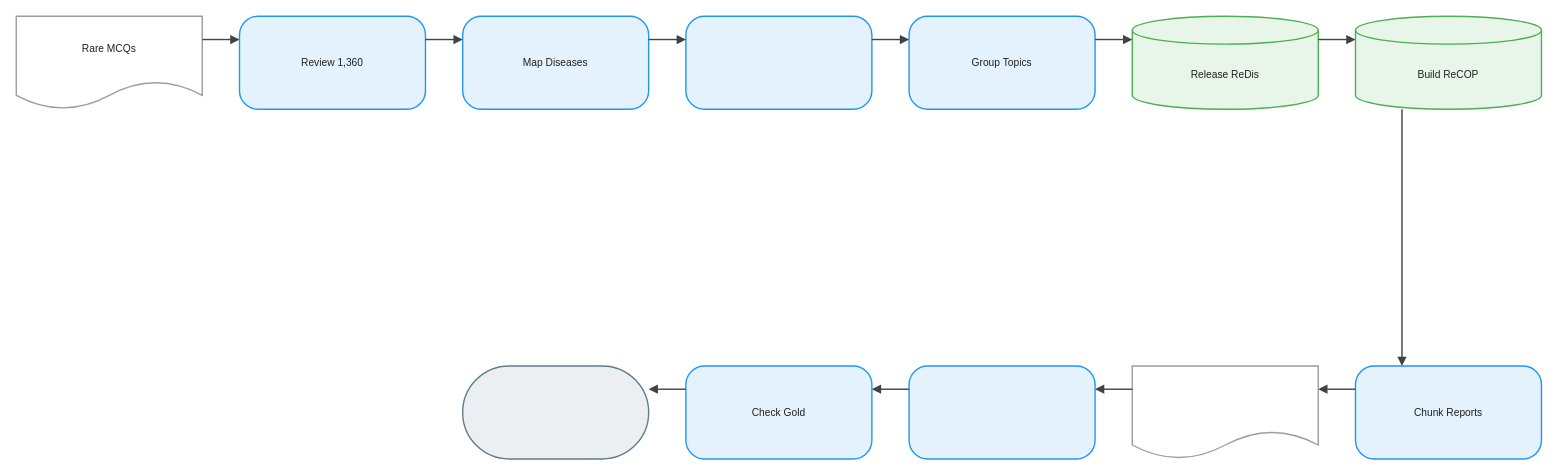
The diagram is 1559 pixels wide and 476 high, and some of its shapes have lost their labels. The shapes that lost their labels are listed below. From the top down, each one's centre as x and y in pixels, then its label:
point (778, 62): Tag Properties
point (555, 412): Report Acc
point (1001, 412): Parse Choice
point (1225, 412): Direct or RAG
